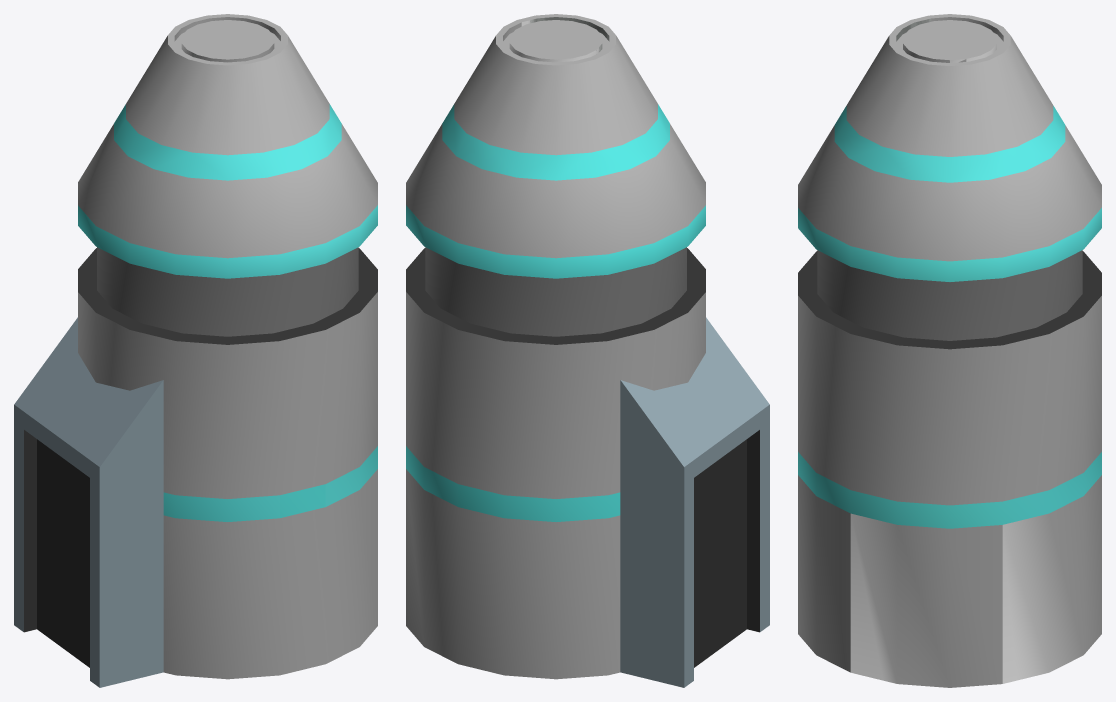
File: M_module.fbx
The picture shows the model from 3 angles, left to right: view 1: azimuth 30°, elevation 25°; view 2: azimuth 150°, elevation 25°; view 3: azimuth 270°, elevation 25°; orthographic projection.
Visible parts, largest first — view 1: M_Module; view 2: M_Module; view 3: M_Module.
Boxes of the visible parts, <box> form: M_Module: <box>14,14,377,687</box>; M_Module: <box>406,14,769,687</box>; M_Module: <box>798,14,1101,687</box>.
Size of the model in its own units: 2754 by 5000 by 2364.
Materials: 1 (1 with a texture image).
